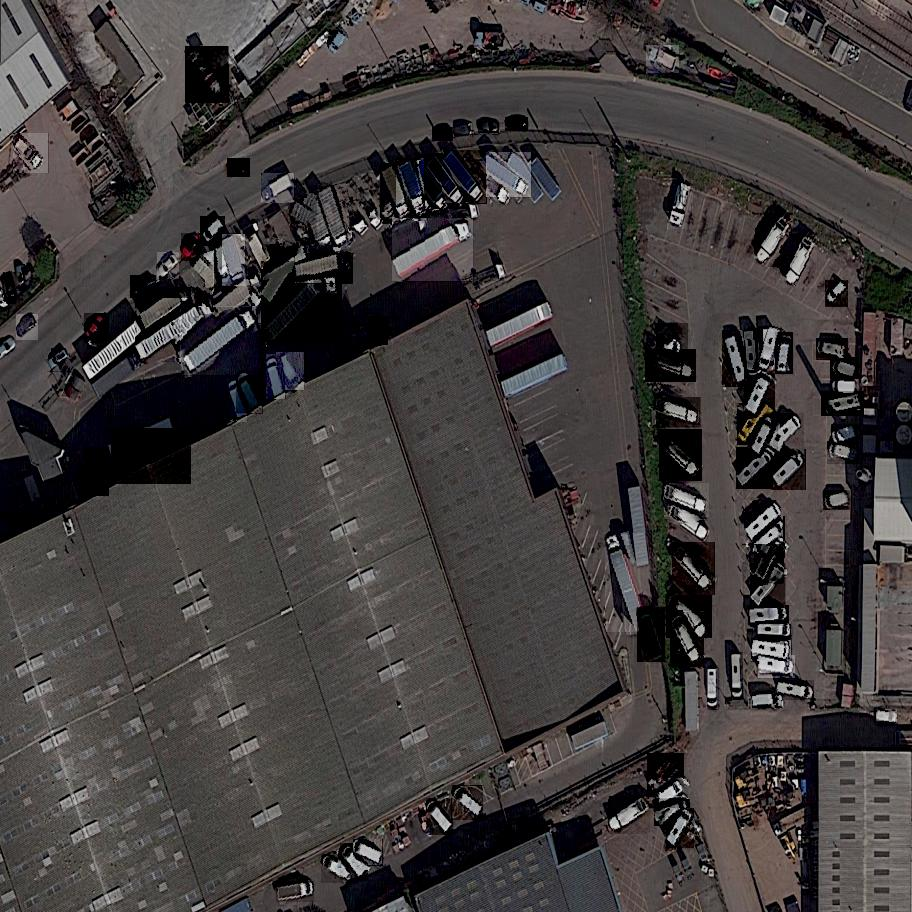large-vehicle: (259, 262, 344, 346), (389, 218, 480, 282), (179, 308, 261, 377), (134, 299, 219, 364), (605, 533, 653, 635), (110, 428, 195, 485), (287, 199, 349, 250), (260, 245, 324, 294), (212, 274, 269, 324), (421, 154, 470, 212), (477, 152, 534, 200), (442, 151, 492, 205), (184, 47, 231, 103), (656, 429, 705, 482), (670, 542, 718, 595), (134, 288, 196, 328), (395, 158, 432, 222), (753, 213, 796, 268), (315, 184, 350, 250), (378, 164, 414, 225), (665, 595, 715, 638), (190, 255, 235, 302), (669, 613, 707, 668), (740, 501, 786, 546), (781, 233, 818, 288), (293, 254, 356, 285), (734, 447, 778, 490), (414, 155, 445, 215), (722, 330, 754, 388), (662, 483, 715, 518), (764, 413, 807, 455), (607, 796, 653, 835), (645, 754, 686, 797), (643, 350, 698, 382), (770, 449, 812, 490), (750, 564, 788, 609), (638, 608, 668, 663), (12, 133, 52, 174), (744, 369, 778, 417), (753, 537, 787, 584), (653, 398, 705, 428), (655, 323, 691, 365), (748, 413, 780, 457), (667, 180, 694, 230), (222, 234, 247, 287), (83, 448, 110, 497), (260, 174, 299, 207), (756, 516, 786, 558), (821, 391, 866, 419), (758, 327, 782, 375), (645, 46, 682, 75), (745, 330, 764, 380), (752, 639, 793, 662), (757, 655, 796, 679), (214, 244, 233, 292), (275, 882, 316, 904), (775, 681, 816, 702), (748, 606, 790, 626), (775, 332, 794, 376), (816, 338, 850, 361), (474, 30, 506, 48), (731, 652, 743, 700), (757, 624, 791, 640), (752, 692, 782, 709), (708, 668, 718, 709)
small-vehicle: (735, 404, 771, 445), (665, 809, 696, 849), (450, 786, 486, 820), (425, 798, 457, 836), (276, 352, 307, 391), (339, 844, 371, 881), (236, 372, 264, 414), (319, 855, 358, 884), (653, 799, 694, 826), (654, 780, 688, 812), (350, 839, 387, 866), (266, 354, 288, 399), (226, 378, 248, 422), (82, 313, 111, 343), (198, 217, 228, 246), (827, 442, 860, 465), (155, 253, 182, 280), (823, 281, 850, 308), (179, 234, 205, 262), (128, 275, 159, 298), (14, 315, 42, 340), (45, 348, 72, 373), (367, 317, 390, 346), (327, 29, 350, 57), (830, 357, 859, 379), (823, 489, 851, 511), (831, 424, 859, 446), (226, 158, 253, 177), (3, 272, 17, 304), (831, 379, 857, 396), (876, 710, 898, 726), (454, 123, 474, 138), (433, 127, 453, 142), (505, 118, 528, 131), (16, 264, 25, 288), (478, 122, 498, 132)
